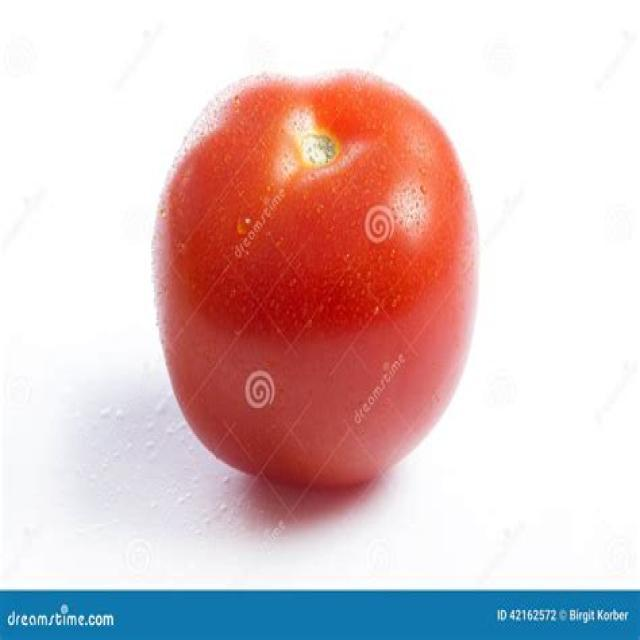Tomato: (150, 69, 480, 493)
